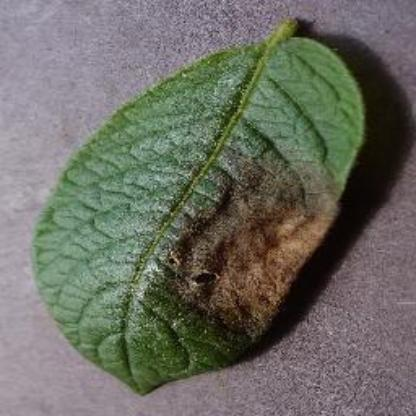Late-Blight: (23, 15, 384, 401)
